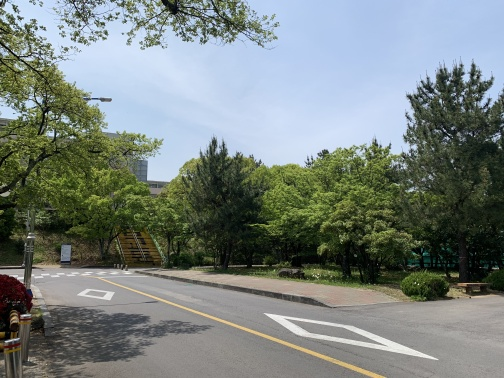Ara Hall: (397, 228, 502, 268)
College Of Education: (1, 113, 184, 219), (105, 128, 177, 215)
